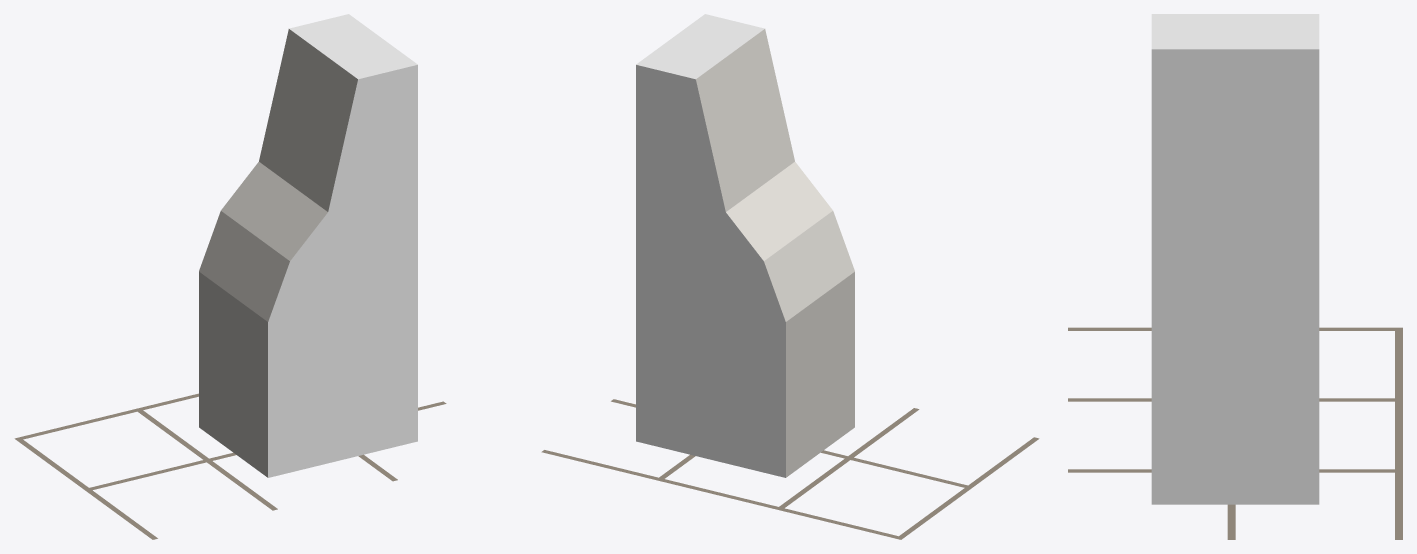
The model's file is Basic_Straight_Base_1x2.glb.
The picture shows the model from 3 angles, left to right: view 1: azimuth 30°, elevation 25°; view 2: azimuth 150°, elevation 25°; view 3: azimuth 270°, elevation 25°; orthographic projection. The views are drawn at different scales.
Parts seen in each view (by area): view 1: Basic_Straight_Base_1x2, Floor; view 2: Basic_Straight_Base_1x2, Floor; view 3: Basic_Straight_Base_1x2, Floor.
Boxes of the visible parts, x1,y1,x2,y2 form: Basic_Straight_Base_1x2: (199, 14, 417, 477); Floor: (14, 393, 446, 539); Basic_Straight_Base_1x2: (636, 14, 854, 477); Floor: (541, 399, 1039, 539); Basic_Straight_Base_1x2: (1151, 14, 1319, 504); Floor: (1068, 327, 1402, 539).
Size of the model in its own units: 300 by 300 by 200.
Materials: 3 (1 with a texture image).
